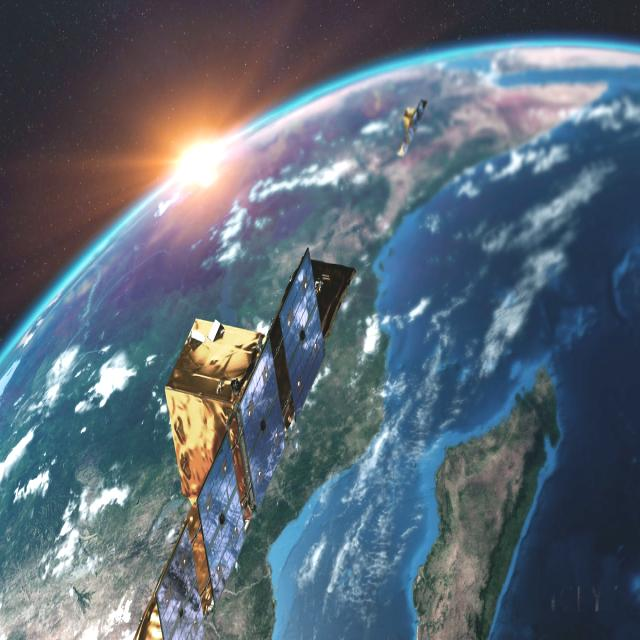medium_debris: (128, 233, 363, 640), (393, 80, 430, 163)
